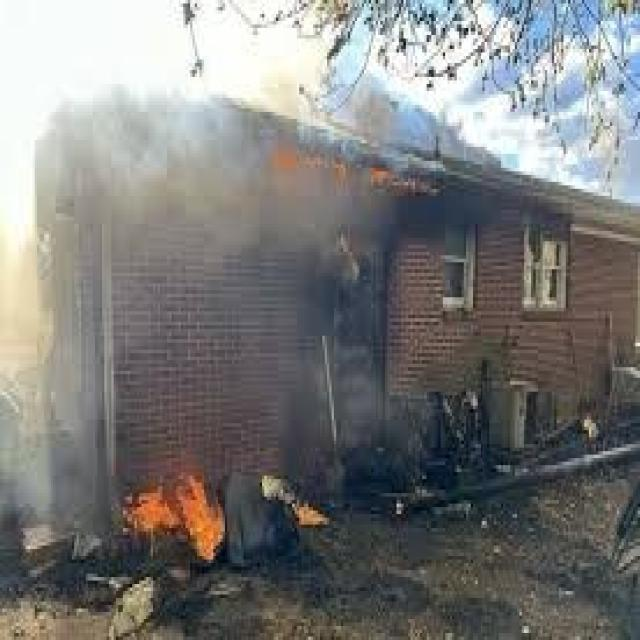fire: (177, 474, 226, 564), (123, 492, 176, 532)
